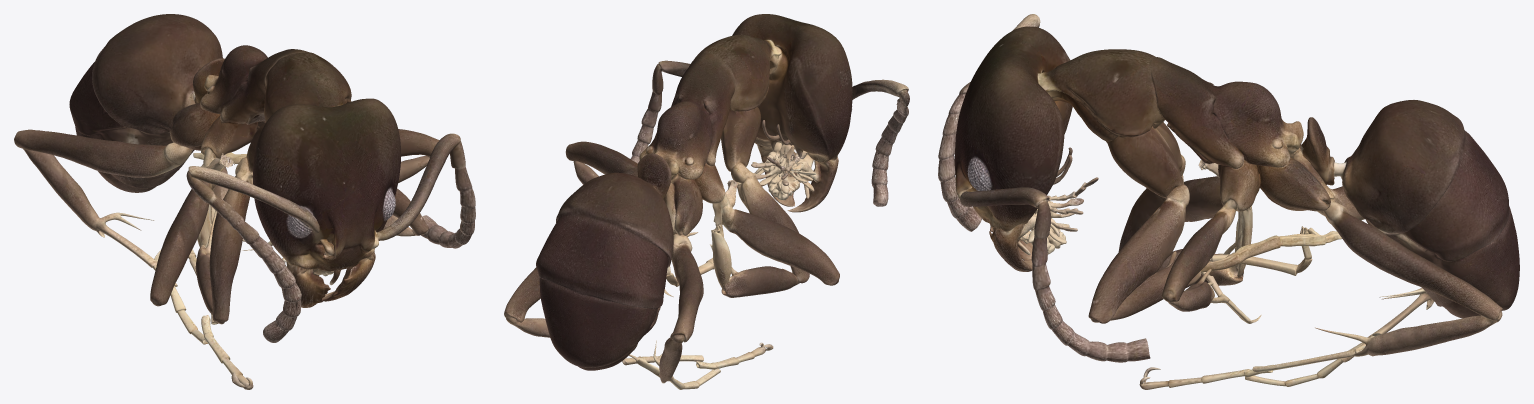
File: esp7.glb
The picture shows the model from 3 angles, left to right: view 1: azimuth 30°, elevation 25°; view 2: azimuth 150°, elevation 25°; view 3: azimuth 270°, elevation 25°; orthographic projection. The views are drawn at different scales.
Size of the model in its own units: 1.33 by 1.31 by 1.9.
Materials: 1 (1 with a texture image).
